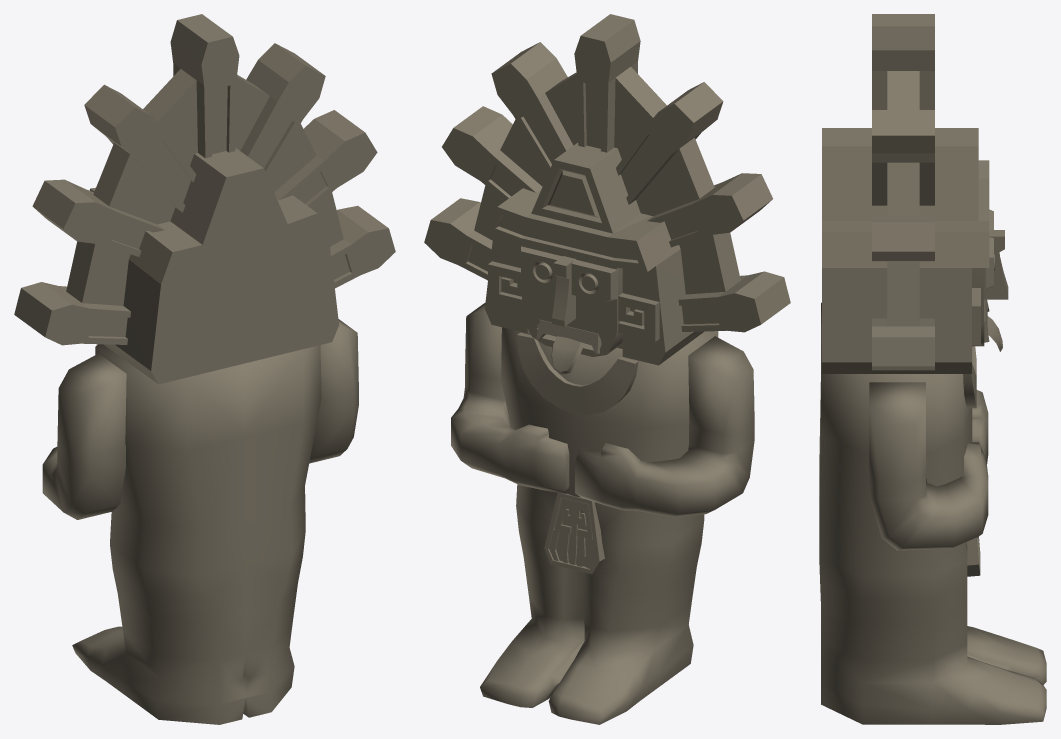
File: TempleStoneStatue_A.fbx
3 renders of one model, left to right at view 1: azimuth 30°, elevation 25°; view 2: azimuth 150°, elevation 25°; view 3: azimuth 270°, elevation 25°, orthographic. The views are drawn at different scales.
Visible parts, largest first — view 1: TempleStoneStatue_A; view 2: TempleStoneStatue_A; view 3: TempleStoneStatue_A.
Boxes of the visible parts, x1,y1,x2,y2 form: TempleStoneStatue_A: (14,14,395,724); TempleStoneStatue_A: (424,14,790,724); TempleStoneStatue_A: (819,14,1046,724).
Bounding box in the file's own units: 519 × 933 × 287.
